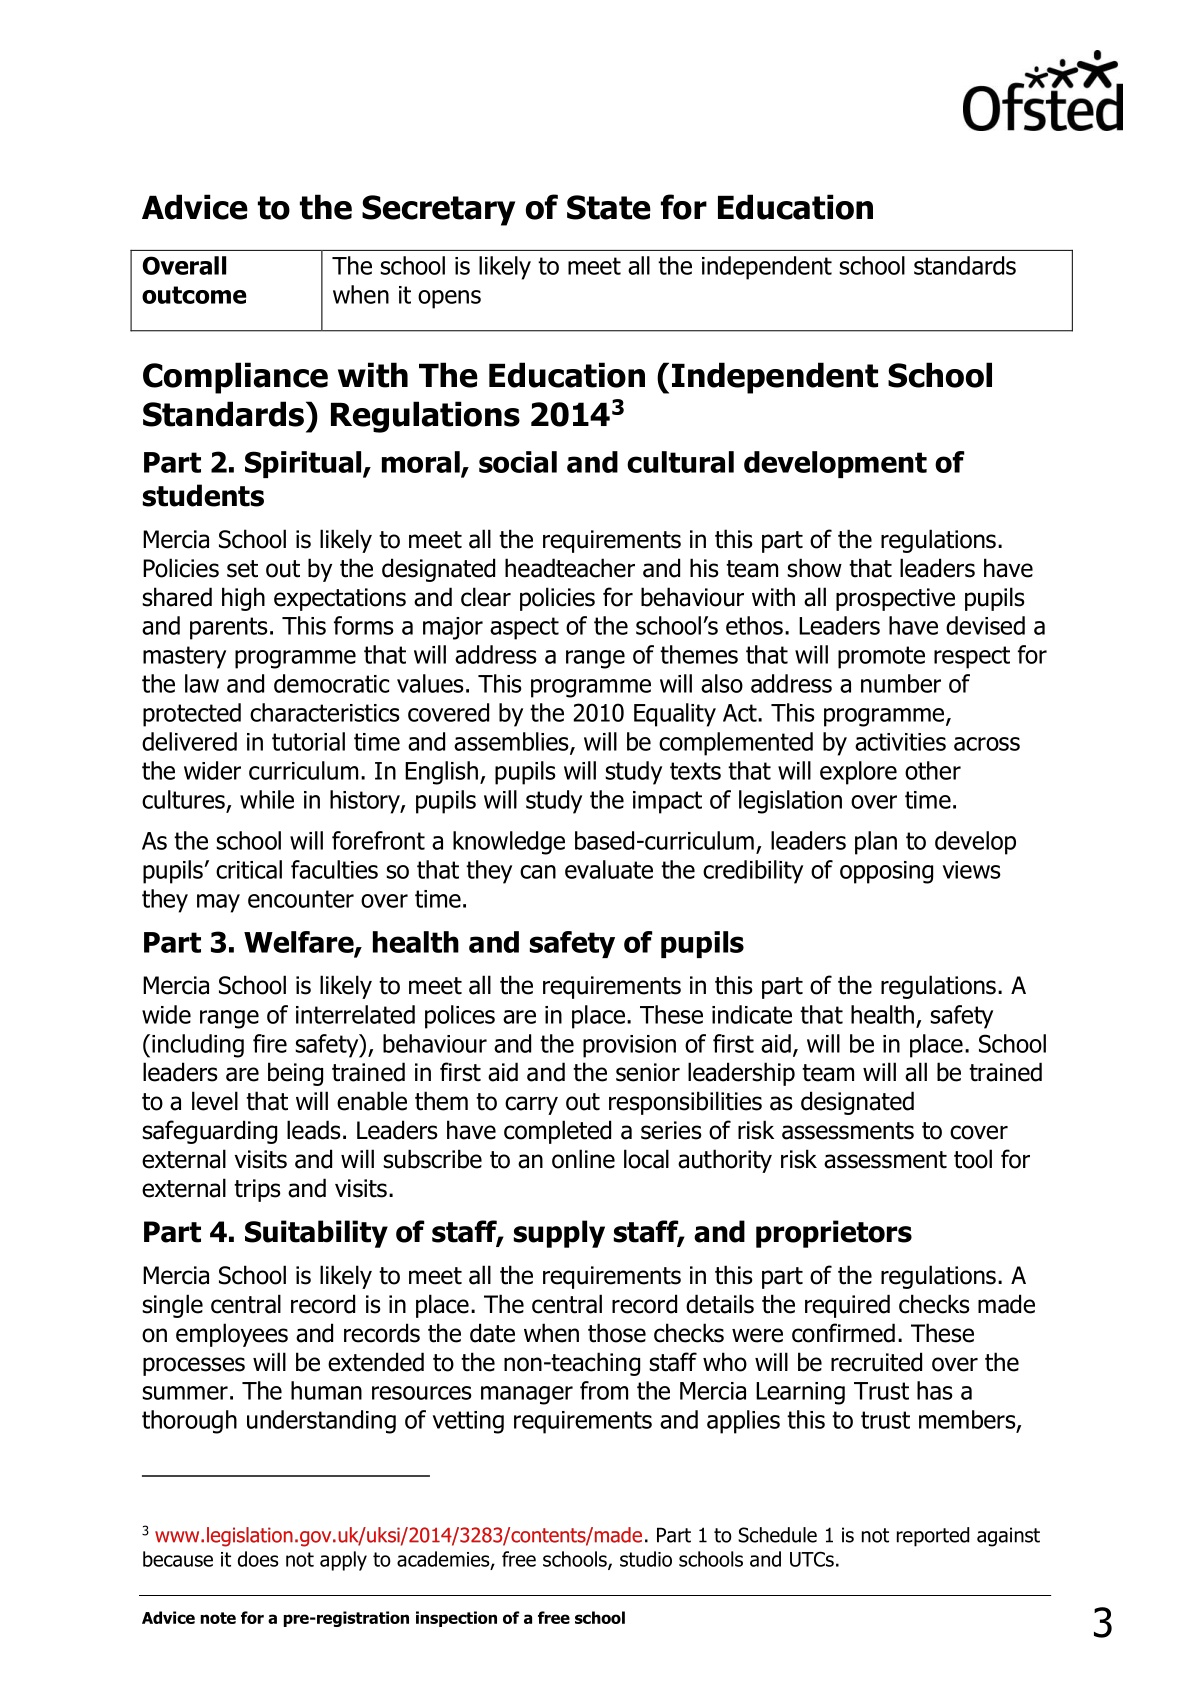full_lined: (130, 248, 1073, 332)
